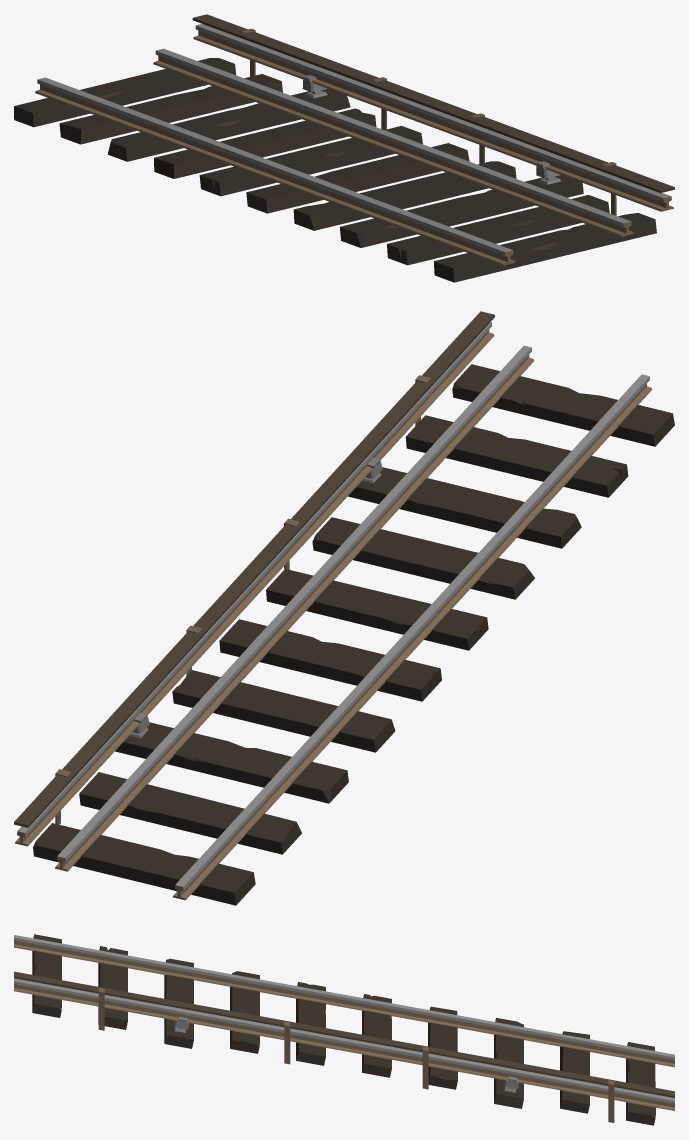
Rendered from SW_ENV_TrackRise_10m.fbx.
3 views of the same model, one above another, from view 1: azimuth 30°, elevation 25°; view 2: azimuth 150°, elevation 25°; view 3: azimuth 270°, elevation 25° (orthographic). The views are drawn at different scales.
Parts seen in each view (by area): view 1: SW_ENV_TrackRise_10m; view 2: SW_ENV_TrackRise_10m; view 3: SW_ENV_TrackRise_10m.
Boxes of the visible parts, x1=… form: SW_ENV_TrackRise_10m: x1=14, y1=14, x2=674, y2=282; SW_ENV_TrackRise_10m: x1=14, y1=311, x2=674, y2=905; SW_ENV_TrackRise_10m: x1=14, y1=934, x2=674, y2=1125.
Bounding box in the file's own units: 276 × 252 × 1000.
